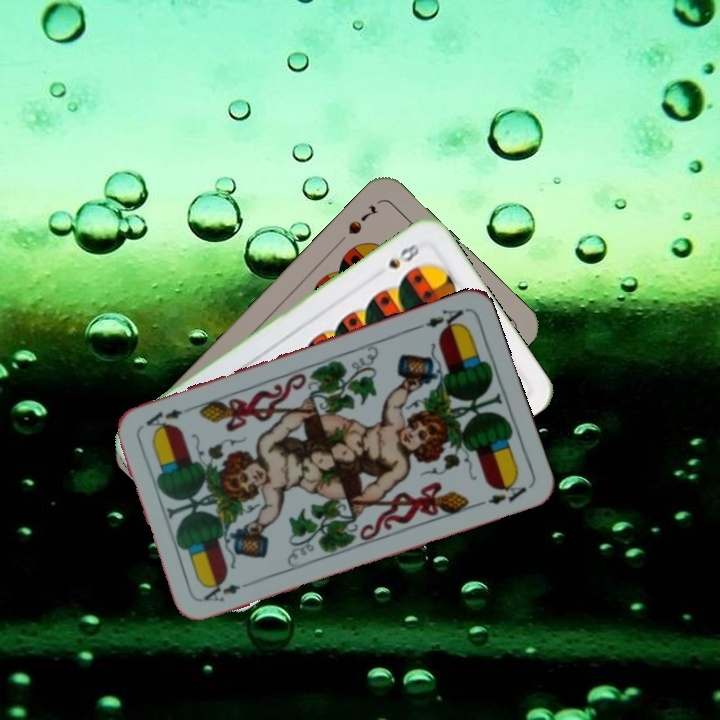EA: (410, 305, 466, 334), (199, 577, 256, 605)
S7: (344, 200, 380, 237)
S8: (384, 239, 422, 271)
